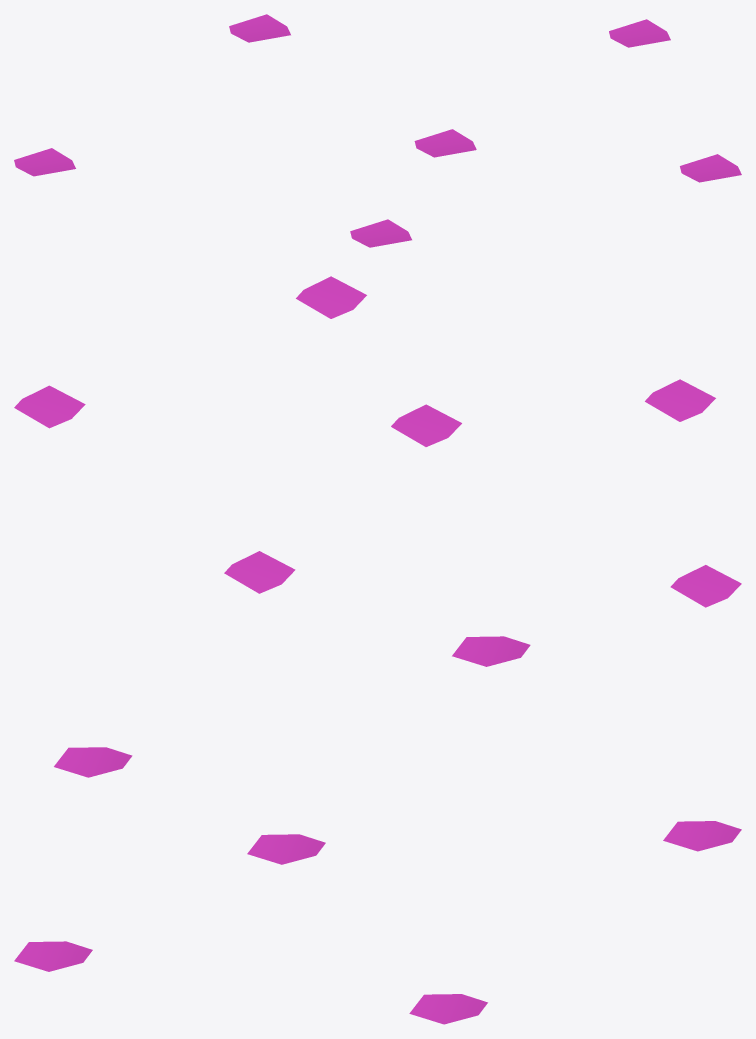
File: kirschenblueten03.FBX
The picture shows the model from 3 angles, top to bottom: view 1: azimuth 30°, elevation 25°; view 2: azimuth 150°, elevation 25°; view 3: azimuth 270°, elevation 25°; orthographic projection. The views are drawn at different scales.
Parts seen in each view (by area): view 1: kirschblueten03; view 2: kirschblueten03; view 3: kirschblueten03.
Part boxes in pixels (x1,y1,x2,y2): kirschblueten03: [14, 14, 741, 247]; kirschblueten03: [14, 276, 741, 607]; kirschblueten03: [14, 636, 741, 1024].
Size of the model in its own units: 29.43 by 0.2916 by 23.33.
